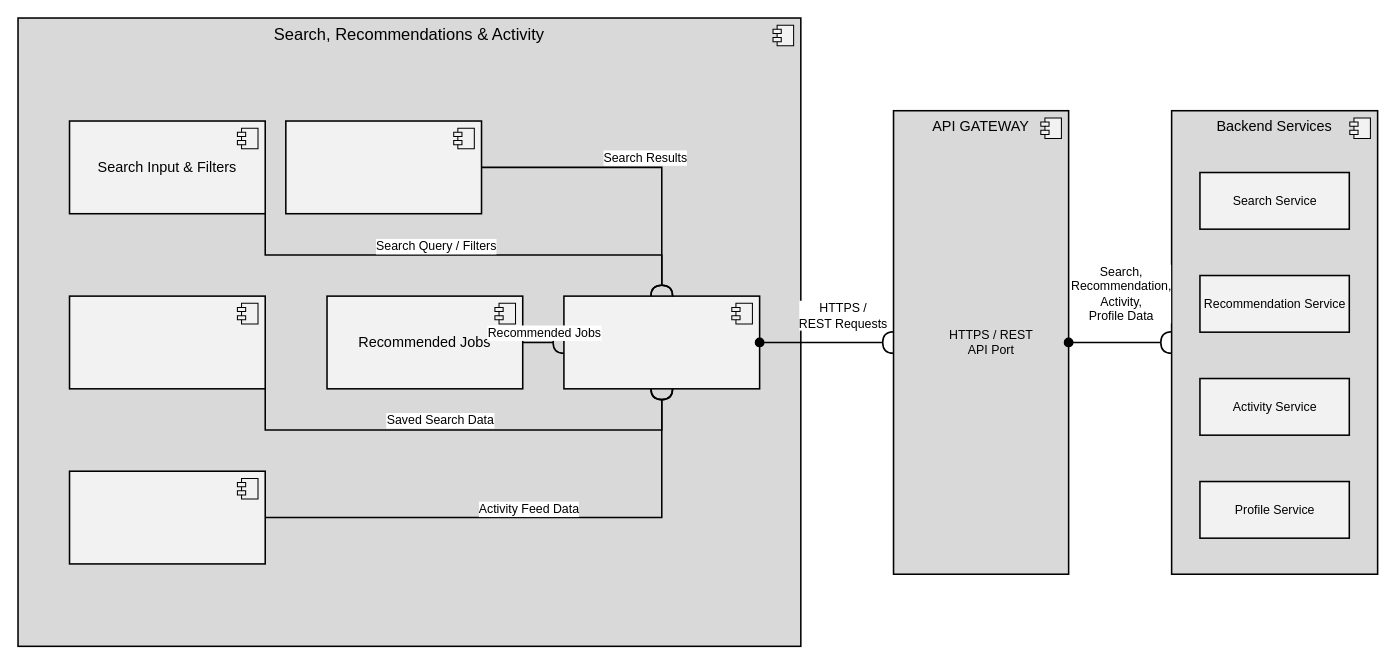
The diagram is 1397 pixels wide and 665 high, and some of its shapes have lost their labels. Each missing label, with the centre of its shape:
Activity Feed: the point at 167,517
Client API Wrapper: the point at 661,342
Results Display: the point at 383,167
Saved Search: the point at 167,342
